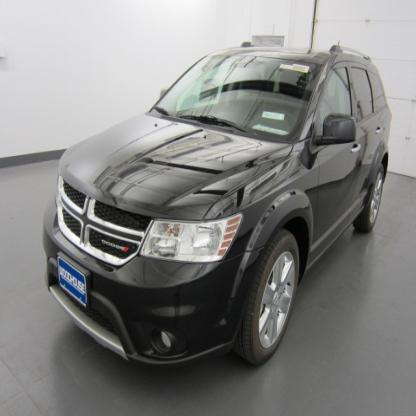Vehicle: (43, 49, 394, 370)
